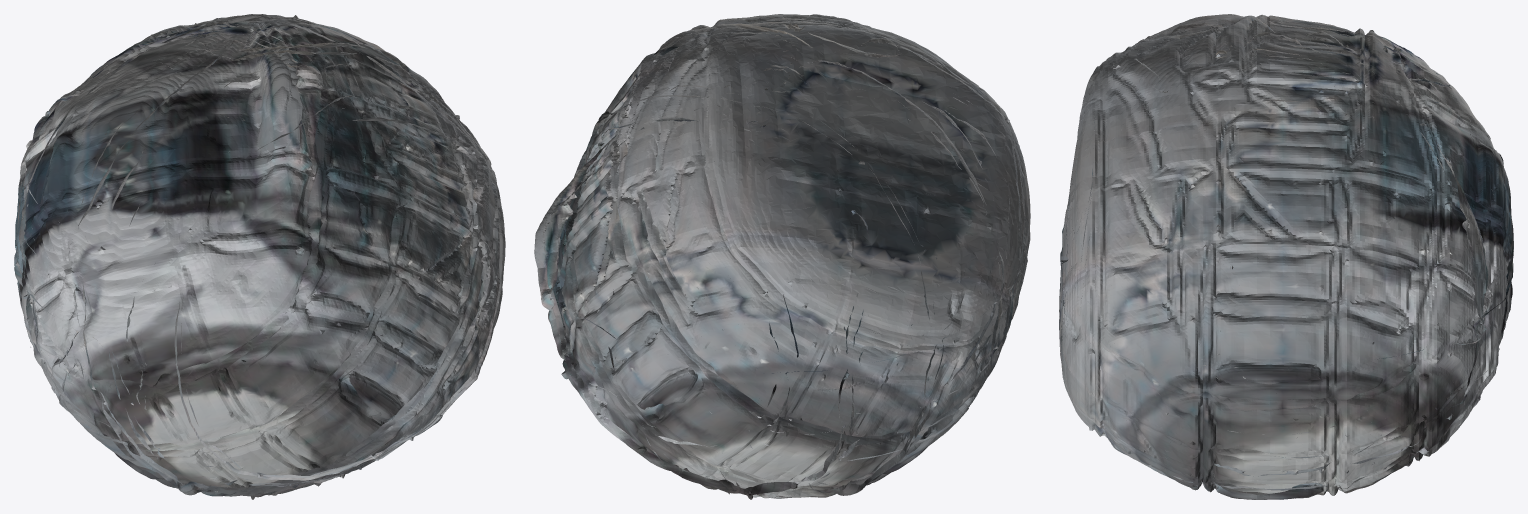
The model's file is helmet_sport.glb.
3 views of the same model, side by side, from view 1: azimuth 30°, elevation 25°; view 2: azimuth 150°, elevation 25°; view 3: azimuth 270°, elevation 25° (orthographic). The views are drawn at different scales.
Visible parts, largest first — view 1: geometry_0; view 2: geometry_0; view 3: geometry_0.
Boxes of the visible parts, x1,y1,x2,y2 form: geometry_0: (14, 14, 505, 499); geometry_0: (534, 14, 1030, 499); geometry_0: (1059, 14, 1513, 499).
Bounding box in the file's own units: 1 × 1.02 × 0.9649.
